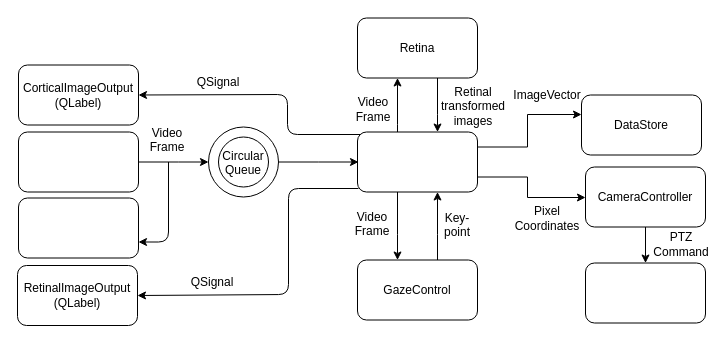
This 726x343 diagram has some shape labels left out. Each missing label, with the centre of its shape:
AutoCapture (QThread): the point at 417,161
PTZ Camera: the point at 645,292
VideoOutput (QLabel): the point at 78,227
VideoThread (QThread): the point at 78,161
